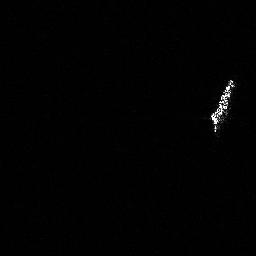ship: (207, 76, 237, 134)
